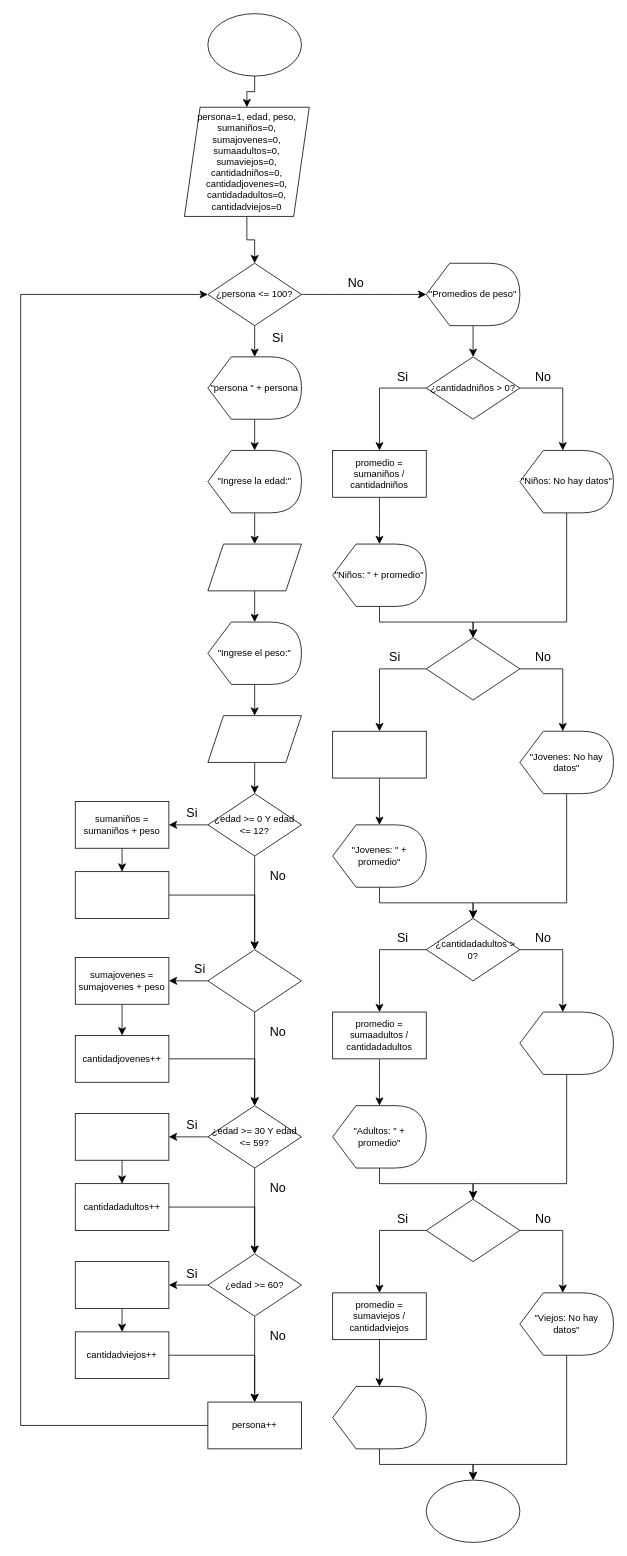
Image size: 627x1556. Some labels were removed from this diagram. The shapes that lost their labels are listed below. From the top down, each one's box as (x1, y1, x2, y2) in pixels, then its label:
(207, 13, 301, 76): Inicio
(207, 543, 301, 591): edad
(425, 637, 520, 700): ¿cantidadjovenes > 0?
(207, 715, 301, 762): peso
(332, 730, 426, 778): promedio = sumajovenes / cantidadjovenes
(74, 871, 169, 918): cantidadniños++
(207, 949, 301, 1012): ¿edad >= 13 Y edad <= 29?
(519, 1011, 613, 1074): "Adultos: No hay datos"
(74, 1113, 169, 1160): sumaadultos = sumaadultos + peso
(425, 1198, 520, 1262): ¿cantidadviejos > 0?
(74, 1261, 169, 1308): sumaviejos = sumaviejos + peso
(332, 1386, 426, 1449): "Viejos: " + promedio"
(425, 1479, 520, 1542): Fin
